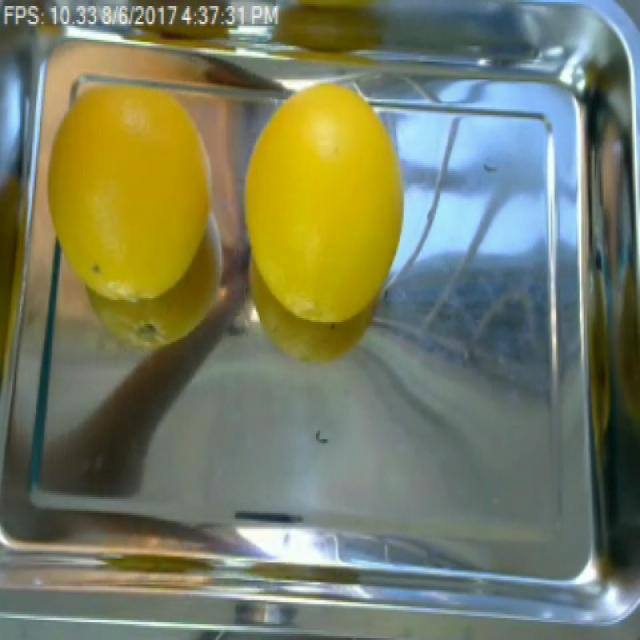Fruit: (233, 70, 418, 268), (257, 0, 395, 62)
